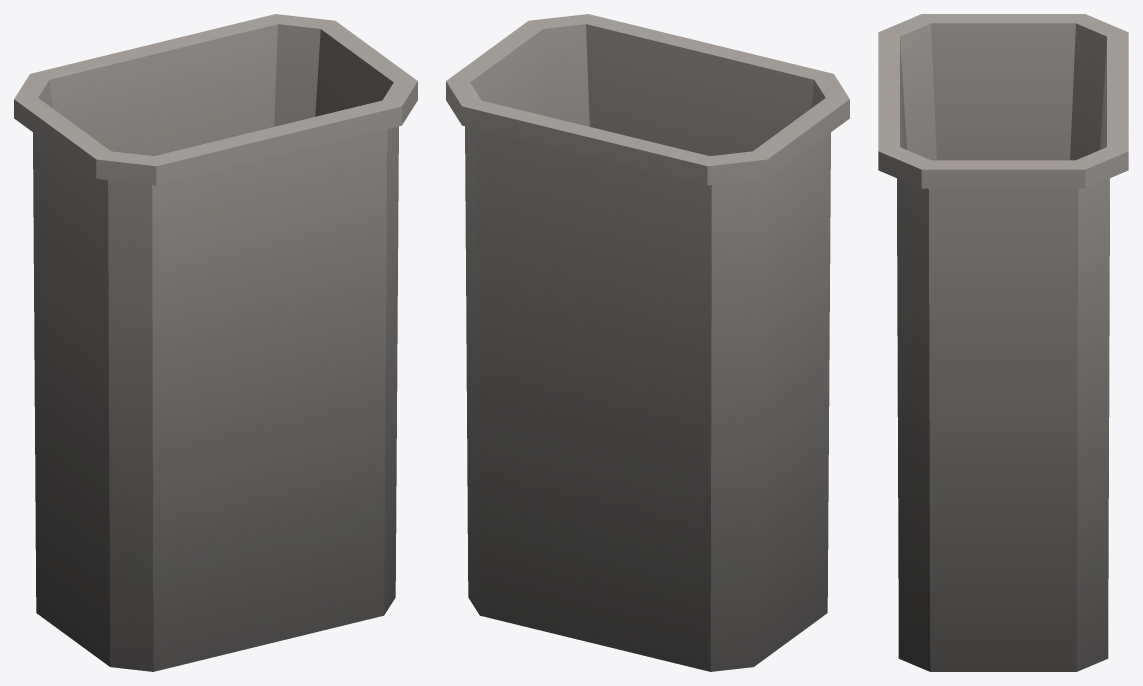
The model's file is WastebinMedium.fbx.
The picture shows the model from 3 angles, left to right: view 1: azimuth 30°, elevation 25°; view 2: azimuth 150°, elevation 25°; view 3: azimuth 270°, elevation 25°; orthographic projection.
Parts seen in each view (by area): view 1: WastebinMedium; view 2: WastebinMedium; view 3: WastebinMedium.
Boxes of the visible parts, x1,y1,x2,y2 form: WastebinMedium: (14, 14, 417, 671); WastebinMedium: (446, 14, 849, 671); WastebinMedium: (878, 14, 1128, 671).
Bounding box in the file's own units: 40.54 × 62.06 × 27.56.
